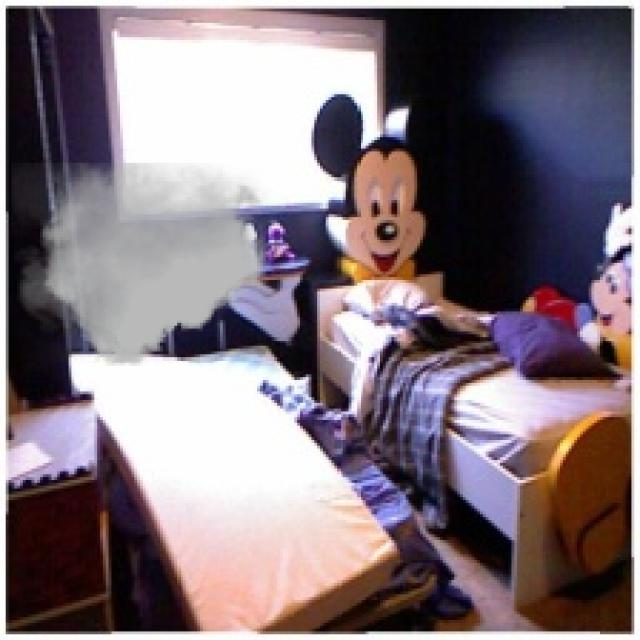smoke: (12, 163, 272, 366)
